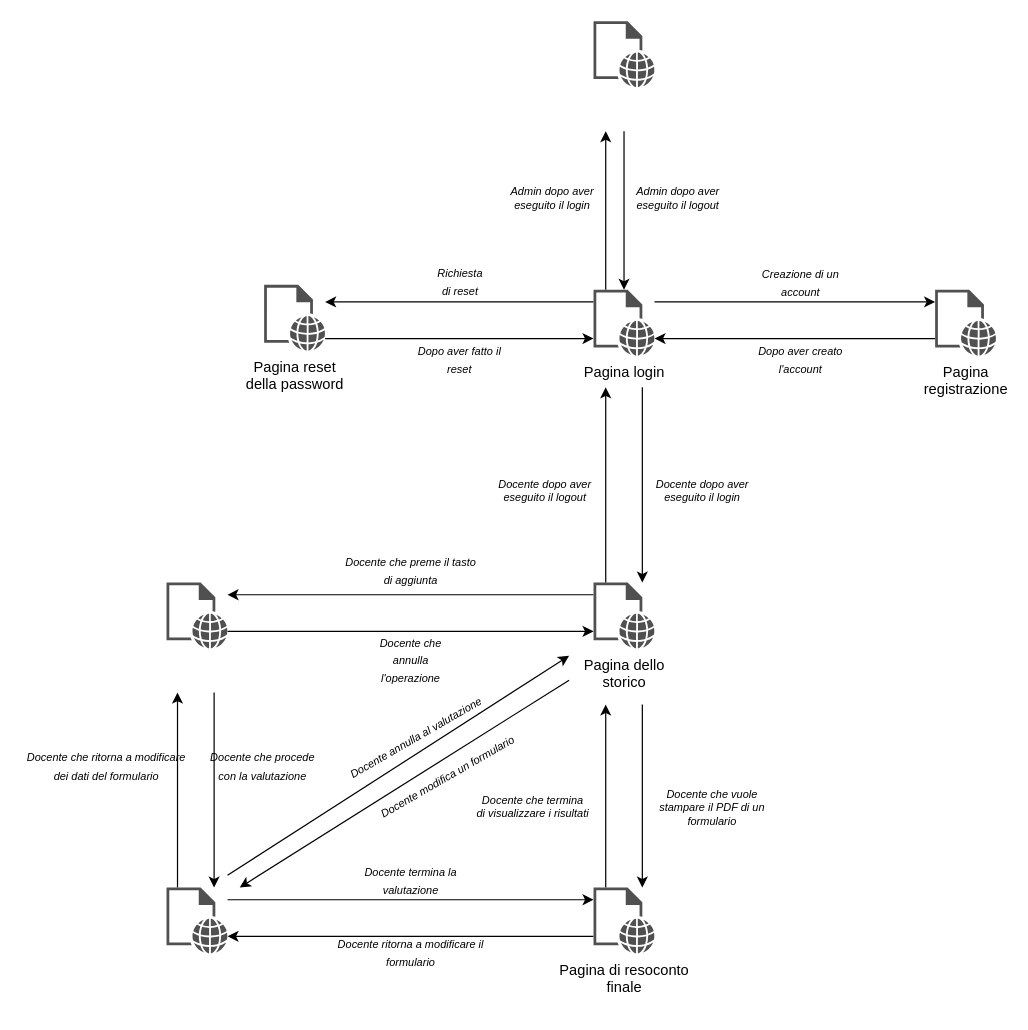
The diagram is 1028 pixels wide and 1030 high, and some of its shapes have lost their labels. The centre of each missing label's shape, as x and y in pixels:
"Pagina di aggiunta delle motivazioni" belongs at (196,920).
"Pagina di aggiunta di un formulario" belongs at (196,615).
"Pagina di amministrazione" belongs at (623,54).
